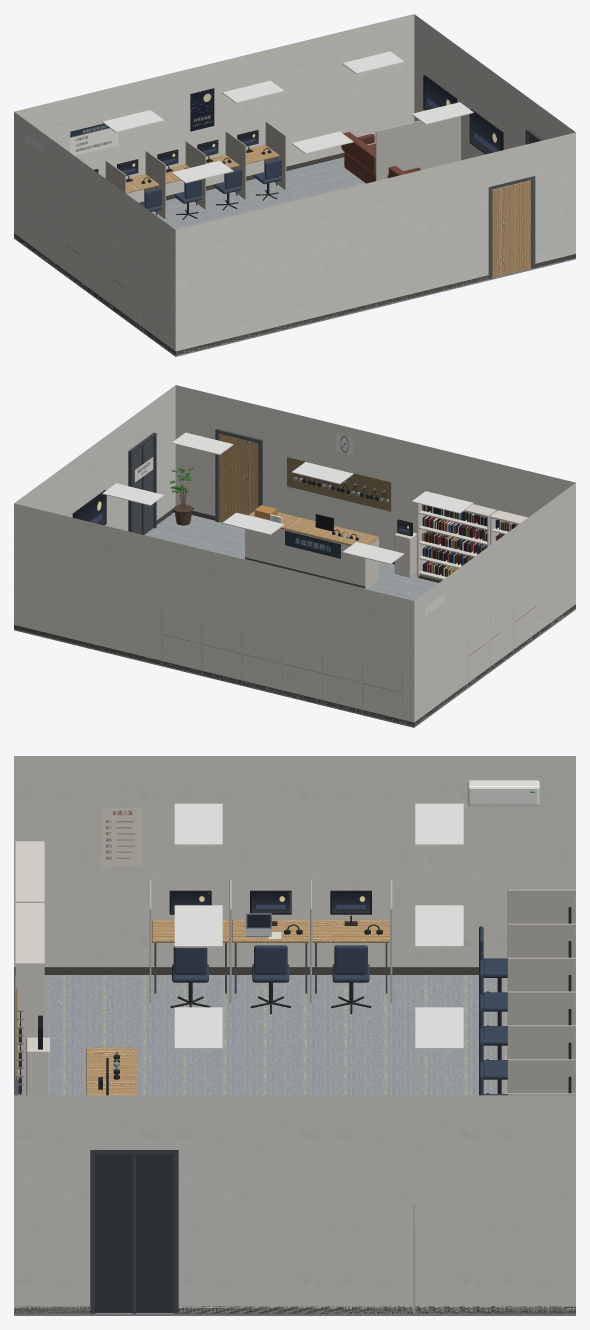
File: library_media.glb
3 views of the same model, one above another, from view 1: azimuth 30°, elevation 25°; view 2: azimuth 150°, elevation 25°; view 3: azimuth 270°, elevation 25° (orthographic). The views are drawn at different scales.
Parts seen in each view (by area): view 1: WALL_S_wall, WALL_N_wall, WALL_W_wall, library_media_props, WALL_E_wall, library_media_floorm, library_media_woodparts, WALL_S_trim, library_media_screens, WALL_N_print, WALL_W_trim, WALL_N_trim (+1 smaller); view 2: WALL_N_wall, WALL_S_wall, WALL_W_wall, library_media_props, WALL_E_wall, library_media_floorm, library_media_woodparts, WALL_S_pegprops, WALL_N_trim, WALL_E_trim, WALL_S_trim, WALL_E_glass (+3 smaller); view 3: WALL_E_wall, WALL_W_wall, library_media_props, library_media_floorm, WALL_E_trim, library_media_woodparts, WALL_W_trim, WALL_W_print, library_media_screens, library_media_metal.
Boxes of the visible parts, x1=… form: WALL_S_wall: x1=175, y1=132, x2=575, y2=354; WALL_N_wall: x1=14, y1=14, x2=414, y2=202; WALL_W_wall: x1=14, y1=112, x2=175, y2=355; library_media_props: x1=67, y1=51, x2=537, y2=326; WALL_E_wall: x1=414, y1=14, x2=575, y2=160; library_media_floorm: x1=14, y1=157, x2=575, y2=356; library_media_woodparts: x1=68, y1=144, x2=531, y2=295; WALL_S_trim: x1=175, y1=176, x2=575, y2=355; library_media_screens: x1=95, y1=77, x2=500, y2=174; WALL_N_print: x1=70, y1=88, x2=214, y2=155; WALL_W_trim: x1=14, y1=134, x2=176, y2=355; WALL_N_trim: x1=14, y1=152, x2=344, y2=236; WALL_N_wall: x1=14, y1=503, x2=414, y2=725; WALL_S_wall: x1=175, y1=385, x2=575, y2=550; WALL_W_wall: x1=414, y1=483, x2=575, y2=724; library_media_props: x1=72, y1=432, x2=527, y2=723; WALL_E_wall: x1=14, y1=385, x2=175, y2=530; library_media_floorm: x1=14, y1=512, x2=575, y2=727; library_media_woodparts: x1=163, y1=434, x2=535, y2=692; WALL_S_pegprops: x1=287, y1=456, x2=391, y2=511; WALL_N_trim: x1=14, y1=625, x2=414, y2=726; WALL_E_trim: x1=14, y1=432, x2=174, y2=628; WALL_S_trim: x1=191, y1=428, x2=575, y2=607; WALL_E_glass: x1=133, y1=439, x2=152, y2=533; WALL_E_wall: x1=14, y1=1095, x2=575, y2=1313; WALL_W_wall: x1=14, y1=756, x2=575, y2=966; library_media_props: x1=15, y1=803, x2=575, y2=1313; library_media_floorm: x1=14, y1=975, x2=575, y2=1315; WALL_E_trim: x1=14, y1=1150, x2=575, y2=1313; library_media_woodparts: x1=86, y1=920, x2=389, y2=1095; WALL_W_trim: x1=15, y1=780, x2=539, y2=974; WALL_W_print: x1=102, y1=807, x2=142, y2=865; library_media_screens: x1=171, y1=893, x2=370, y2=913; library_media_metal: x1=154, y1=915, x2=501, y2=1093.
Size of the model in its own units: 10 by 3.03 by 7.
Materials: 11 (6 with a texture image).
